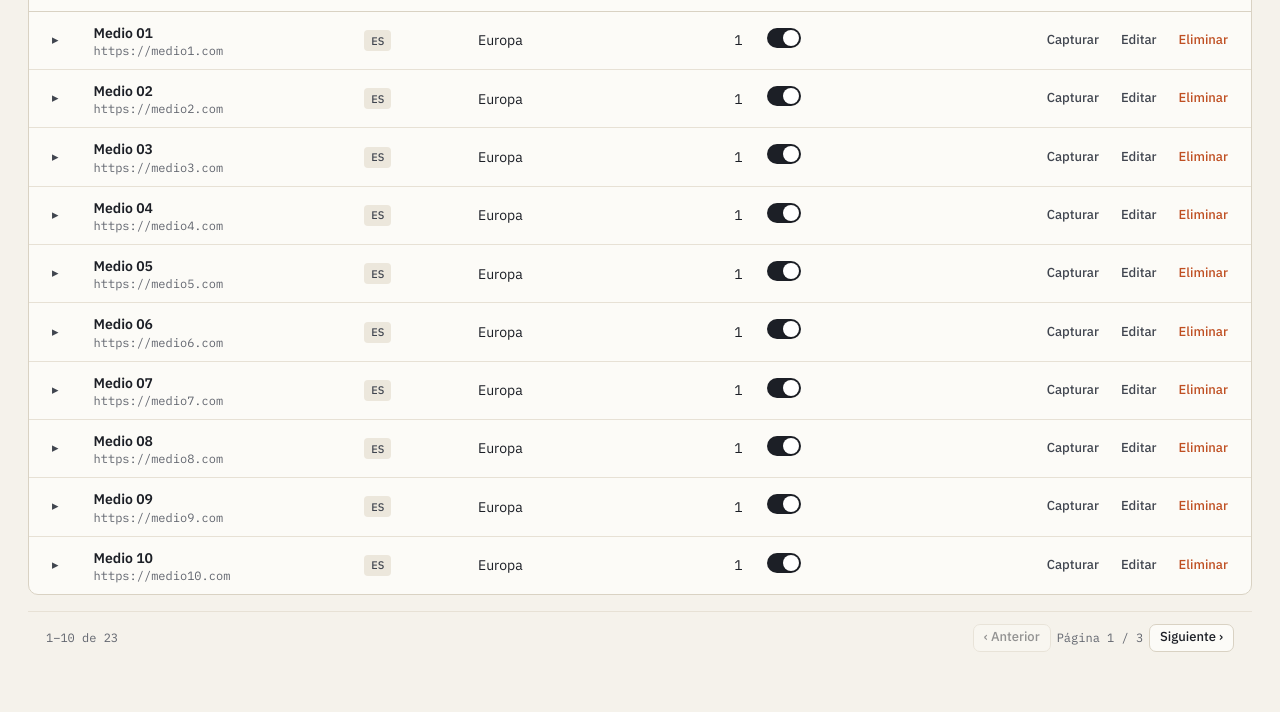
Test: SourcesPage › pagination › navigates between pages and disables the buttons at the edges
(page scrolled)
Expected: the text "Medio 01" is shown, [94,24,153,42]
Expected: the button with aria-label "Página anterior" is disabled, [973,624,1051,652]
Click the button with aria-label "Página siguiente": (1192, 638) [1149,624,1234,652]
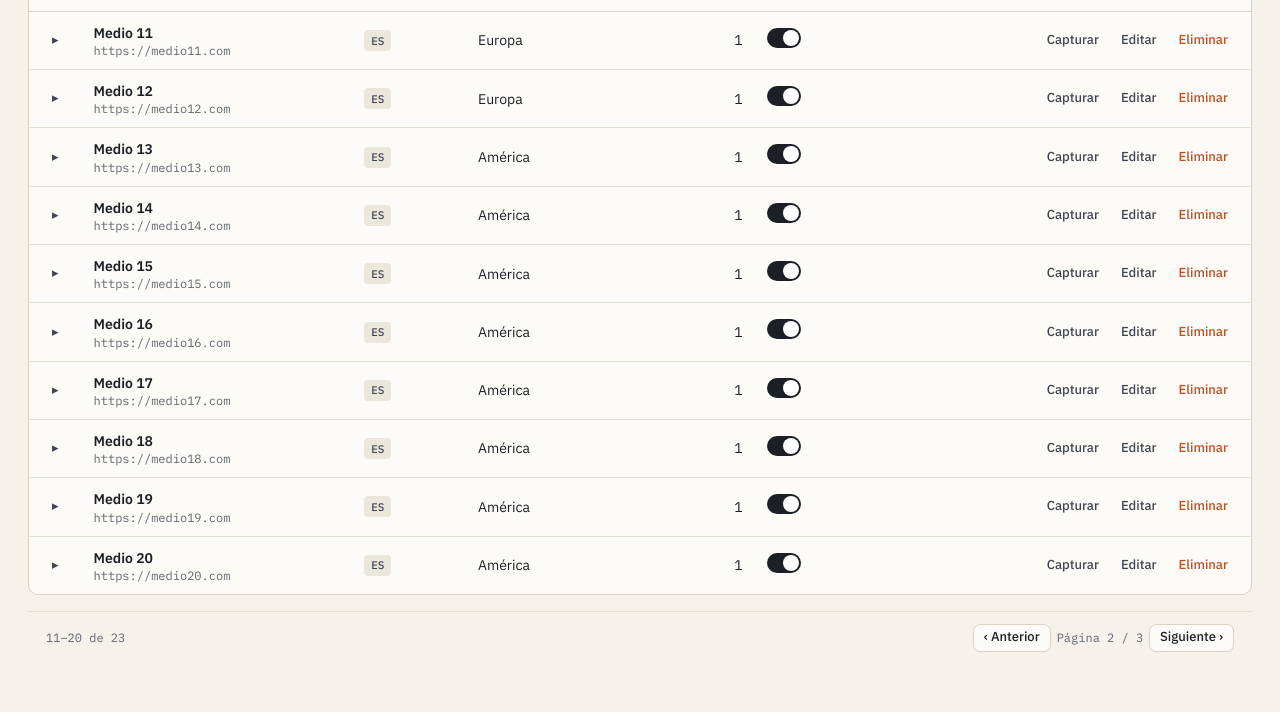
Result: the text "Medio 11" is shown at [94,24,153,42]
Result: the text "Medio 10" is gone
Result: the text "11–20 de 23" is shown at [46,630,125,645]
Click the button with aria-label "Página siguiente": (1192, 638) [1149,624,1234,652]
(page scrolled)
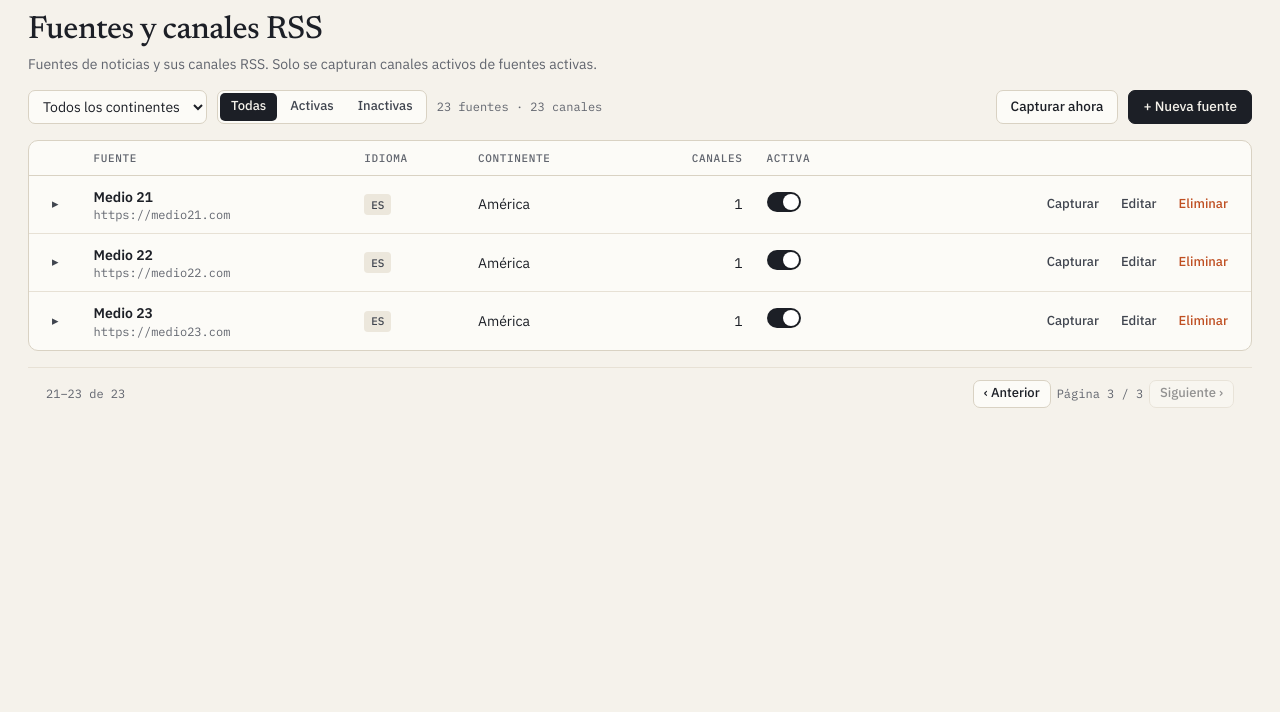
Result: the text "Medio 23" is shown at [94,304,153,322]
Result: the text "21–23 de 23" is shown at [46,386,125,401]
Result: the button with aria-label "Página siguiente" is disabled at [1149,380,1234,408]
Click the button with aria-label "Página anterior": (1012, 394) [973,380,1051,408]
(page scrolled)
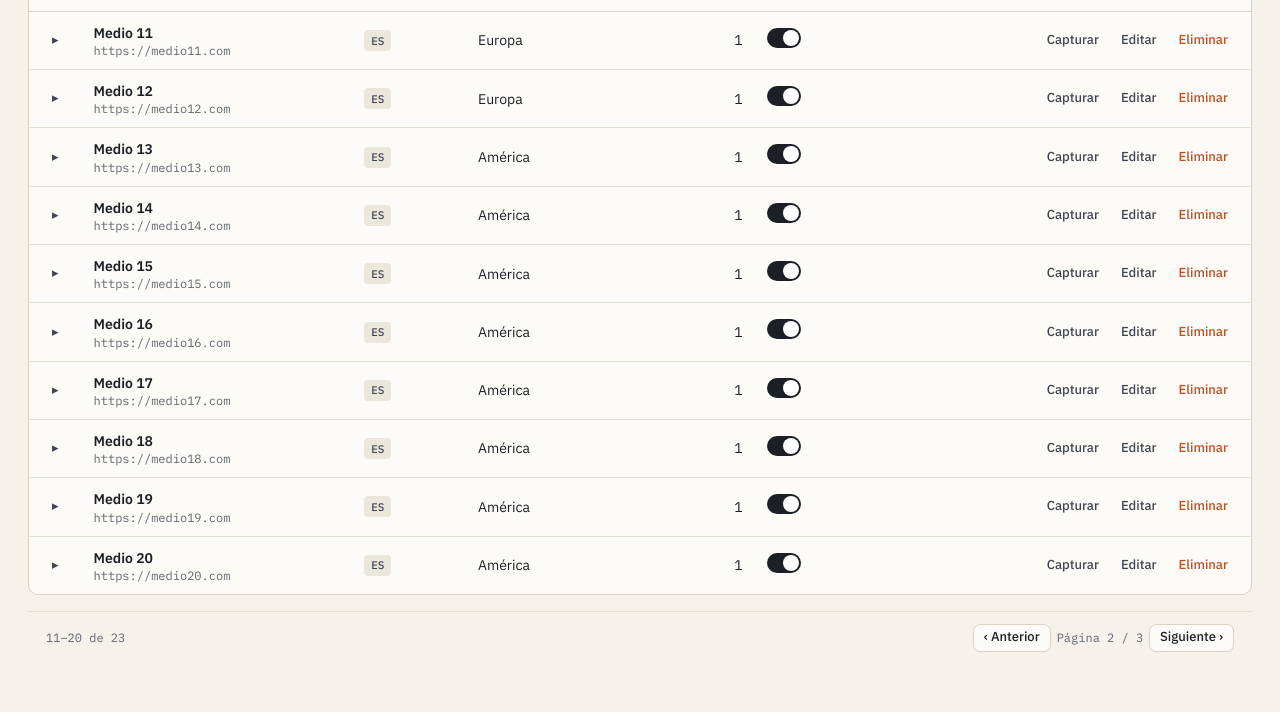
Result: the text "Página 2 / 3" is shown at [1057,630,1143,645]
